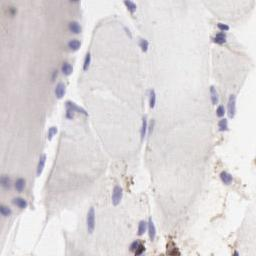nucleus: (63, 99, 89, 114), (112, 181, 123, 207), (36, 152, 47, 177), (227, 93, 237, 120), (86, 205, 94, 234), (209, 84, 219, 105), (219, 170, 233, 185), (11, 196, 27, 209), (148, 86, 157, 109), (82, 50, 92, 69), (140, 117, 147, 143), (123, 1, 137, 14), (48, 126, 59, 142), (56, 82, 66, 99), (70, 20, 82, 34), (209, 36, 227, 45), (218, 119, 230, 132), (137, 221, 148, 235), (149, 220, 156, 241), (139, 37, 148, 53), (216, 103, 226, 117), (1, 175, 11, 188), (1, 205, 11, 218), (16, 179, 25, 193), (62, 63, 73, 74), (217, 22, 230, 31), (69, 40, 81, 49), (129, 240, 139, 250), (52, 69, 58, 82), (125, 26, 131, 39), (65, 110, 74, 118), (215, 32, 227, 37), (234, 251, 240, 255)
positive_cell: (129, 240, 146, 255), (165, 238, 179, 256)
